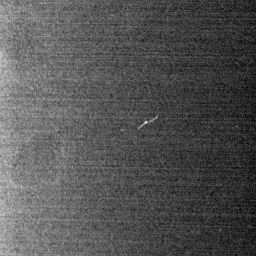sct: (133, 113, 164, 135)
